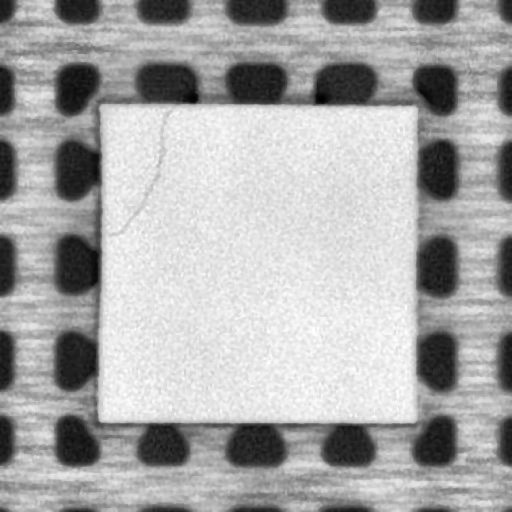DIE_CRACK: (106, 107, 170, 235)
